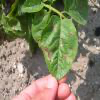Potato leaf late blight: (39, 14, 79, 81)
